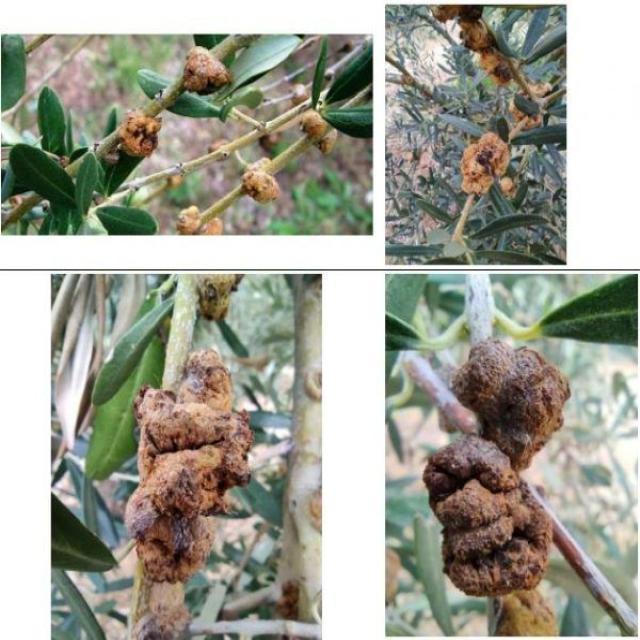Tuberculosis: (424, 338, 570, 634), (124, 350, 252, 639), (438, 6, 514, 84), (461, 133, 509, 195), (183, 46, 230, 93), (118, 110, 156, 156), (300, 109, 336, 153), (176, 205, 222, 234), (242, 170, 280, 202)
